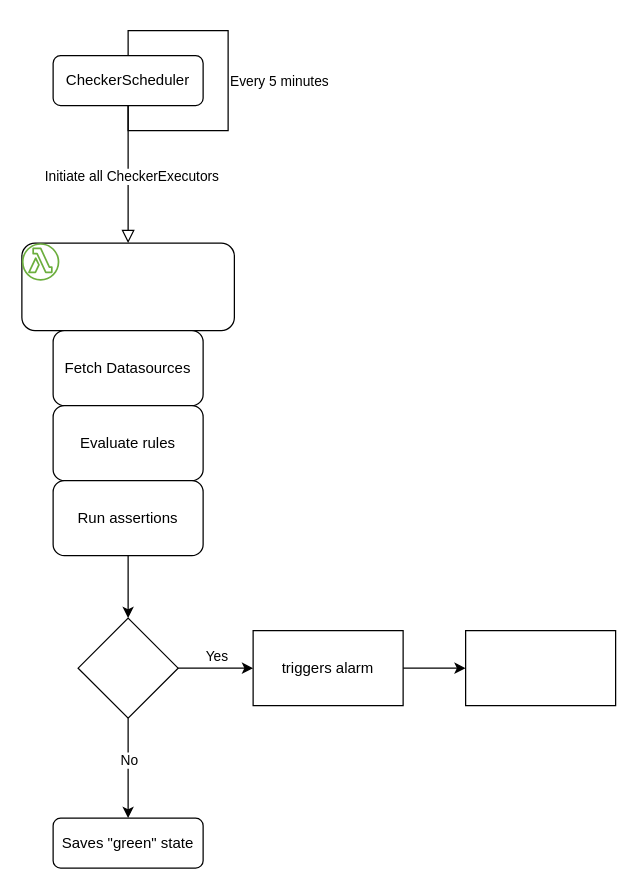
Some shapes in this 638 by 890 pixel diagram are drawn without their labels. Each missing label, with the box of its shape:
Assertion Failed?: (77, 617, 178, 718)
CheckerExecutors.exec: (21, 242, 234, 331)
Saves "red" state: (464, 629, 616, 706)
